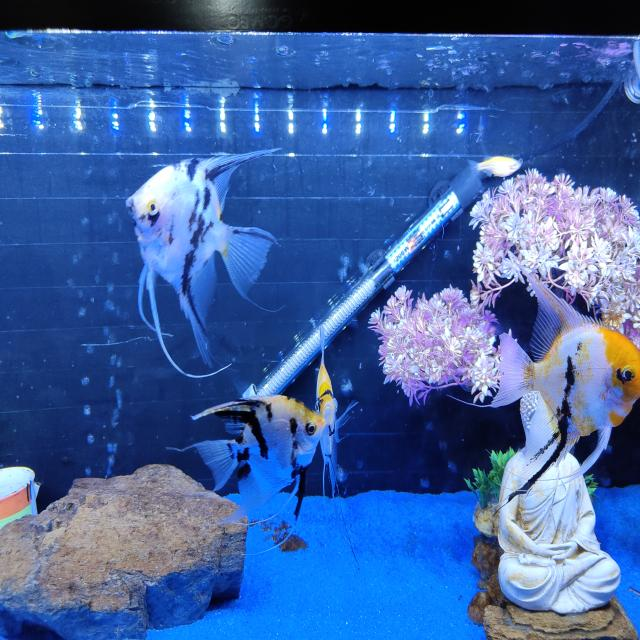Fish: (126, 150, 276, 377), (492, 276, 639, 499), (168, 396, 325, 522), (316, 326, 358, 497), (474, 157, 522, 177)
